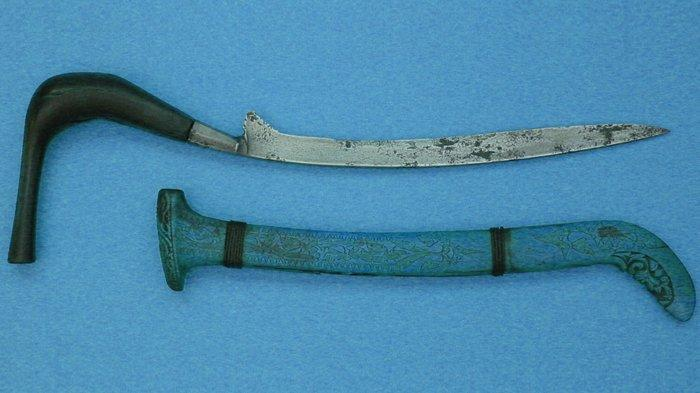facao: (8, 72, 666, 262)
